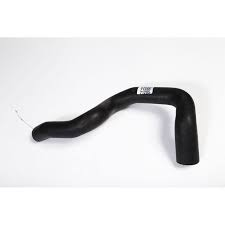radiator_hose: (34, 87, 199, 164)
